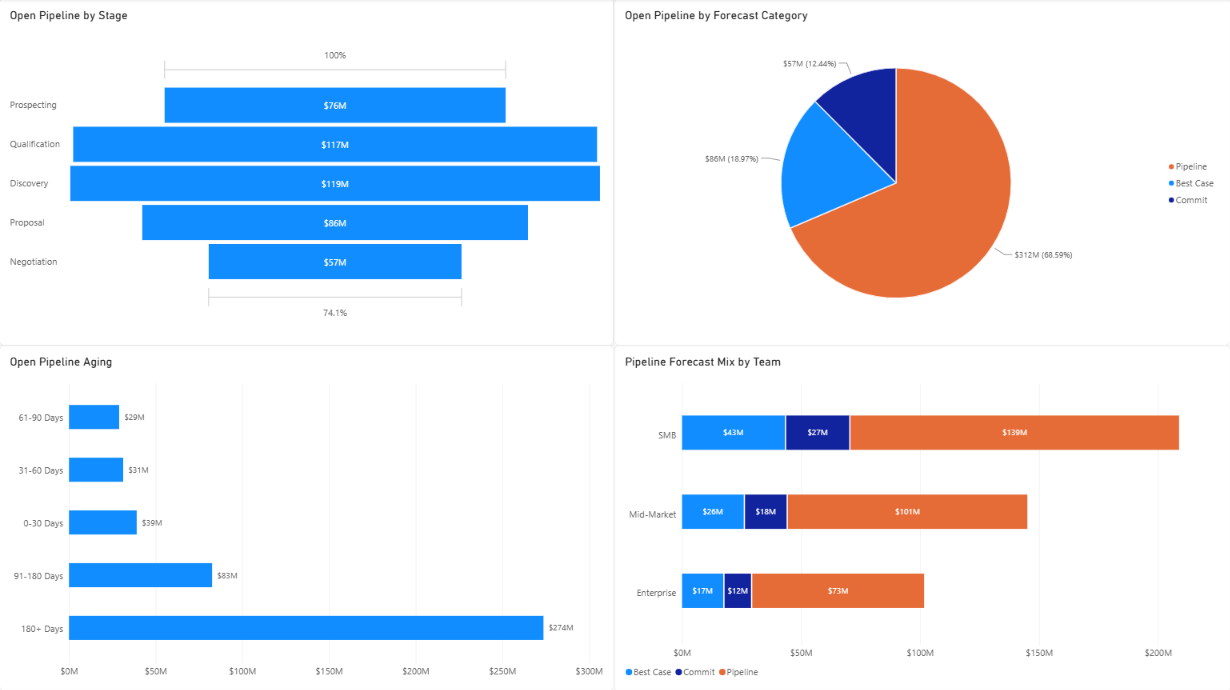

What the dashboard file says about the page in this screenshot:
{"tool":"powerbi","page":{"name":"Pipeline & Forecast","canvas":[1920,1080],"ordinal":1},"visuals":[{"type":"funnel","title":"Open Pipeline by Stage","fields":{"Category":["Stage Order.Stage Order"],"Y":["opportunities.Open Pipeline Value"]},"box":[9.2,0,949.9,540.5],"z":0},{"type":"pieChart","title":"Open Pipeline by Forecast Category","fields":{"Category":["opportunities.forecast_category"],"Y":["opportunities.Open Pipeline Value"]},"box":[959.1,0,961.4,540.5],"z":1000},{"type":"clusteredBarChart","title":"Open Pipeline Aging","fields":{"Category":["opportunities.Age Bucket"],"Y":["opportunities.Open Pipeline Value"]},"box":[9.2,540.5,949.9,540.5],"z":2000},{"type":"barChart","title":"Pipeline Forecast Mix by Team","fields":{"Category":["sales_reps.team"],"Series":["opportunities.forecast_category"],"Y":["opportunities.Open Pipeline Value"]},"box":[959.1,540.5,961.4,540.5],"z":3000}]}

Visuals, with their boxes in screenshot pixels (x1, y1, x2, y2), scaled from the page's 1920x1080 canvas onto the 1230x690 screenshot:
"Open Pipeline by Stage" funnel: rect(6, 0, 614, 345)
"Open Pipeline by Forecast Category" pieChart: rect(614, 0, 1229, 345)
"Open Pipeline Aging" clusteredBarChart: rect(6, 345, 614, 689)
"Pipeline Forecast Mix by Team" barChart: rect(614, 345, 1229, 689)
